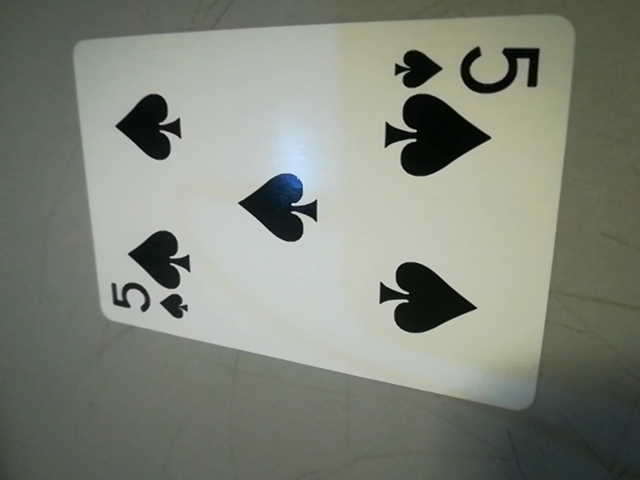ht 5: (390, 38, 551, 103)
